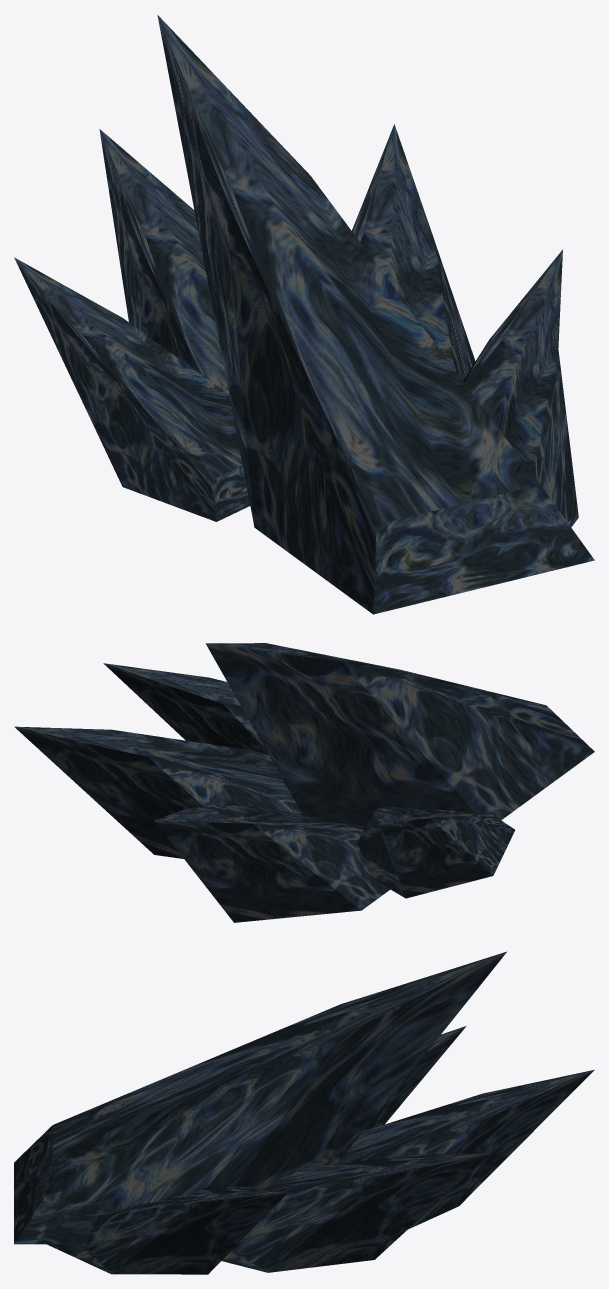
File: Sharp_Rocks_All.fbx
The picture shows the model from 3 angles, top to bottom: view 1: azimuth 30°, elevation 25°; view 2: azimuth 150°, elevation 25°; view 3: azimuth 270°, elevation 25°; orthographic projection. The views are drawn at different scales.
Parts seen in each view (by area): view 1: Cube.004, Cube.003, Cube.005, Cube.006, Cube.002; view 2: Cube.004, Cube.005, Cube.002, Cube.003, Cube.006; view 3: Cube.004, Cube.002, Cube.006, Cube.005, Cube.003.
Part boxes in pixels (bbox=[...]): Cube.004: bbox=[157, 15, 594, 614]; Cube.003: bbox=[14, 257, 250, 521]; Cube.005: bbox=[99, 129, 229, 394]; Cube.006: bbox=[463, 249, 578, 527]; Cube.002: bbox=[352, 124, 475, 380]; Cube.004: bbox=[205, 643, 594, 826]; Cube.005: bbox=[154, 805, 389, 922]; Cube.002: bbox=[14, 726, 301, 858]; Cube.003: bbox=[357, 807, 514, 898]; Cube.006: bbox=[103, 663, 268, 755]; Cube.004: bbox=[14, 951, 506, 1244]; Cube.002: bbox=[222, 1153, 490, 1272]; Cube.006: bbox=[47, 1186, 287, 1274]; Cube.005: bbox=[333, 1069, 594, 1229]; Cube.003: bbox=[364, 1026, 466, 1130].
Bounding box in the file's own units: 3298 × 2508 × 4999.
5 materials, 5 textured.
